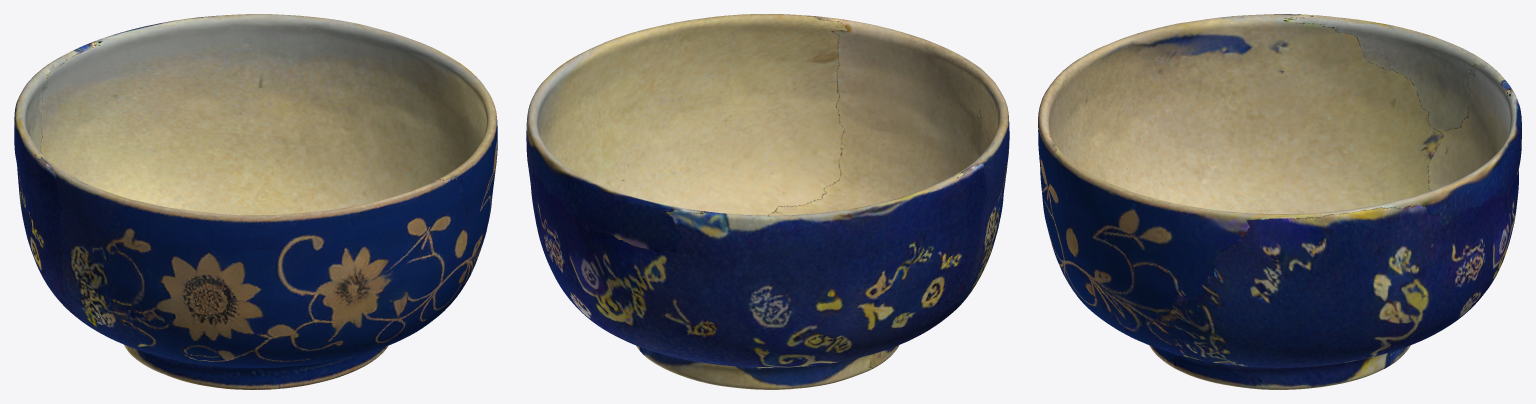
The model's file is texgen_sd_13w.glb.
The picture shows the model from 3 angles, left to right: view 1: azimuth 30°, elevation 25°; view 2: azimuth 150°, elevation 25°; view 3: azimuth 270°, elevation 25°; orthographic projection.
Visible parts, largest first — view 1: texture_v128_amrb_13w_cfg2_hdr; view 2: texture_v128_amrb_13w_cfg2_hdr; view 3: texture_v128_amrb_13w_cfg2_hdr.
Part boxes in pixels (box(x1,y1,x2,y2)): texture_v128_amrb_13w_cfg2_hdr: box(14, 14, 497, 389); texture_v128_amrb_13w_cfg2_hdr: box(526, 14, 1009, 389); texture_v128_amrb_13w_cfg2_hdr: box(1038, 14, 1521, 389).
Bounding box in the file's own units: 2 × 1 × 2.
Materials: 1 (1 with a texture image).
